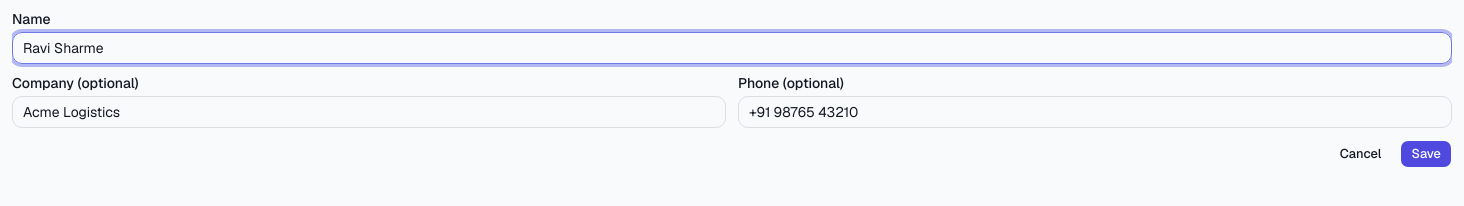
Test case: LeadDetailsForm › shows a field error and sends nothing when the name is cleared
Clear the field labelled "Name". click: (732, 48)
box: [12,32,1452,64]
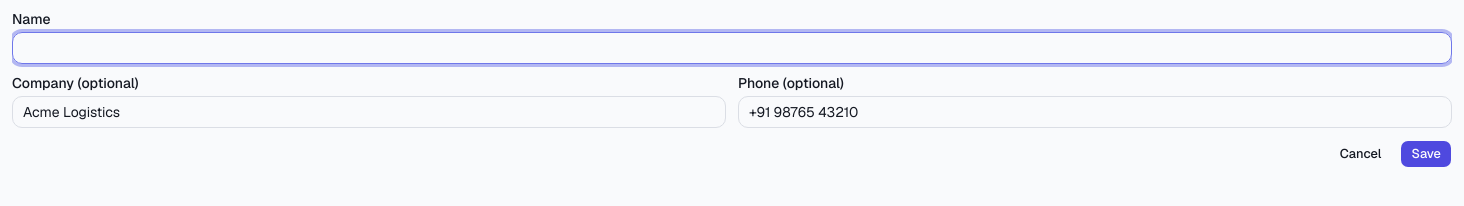
Click the button "Save". click: (1426, 154)
box: [1400,140,1452,168]
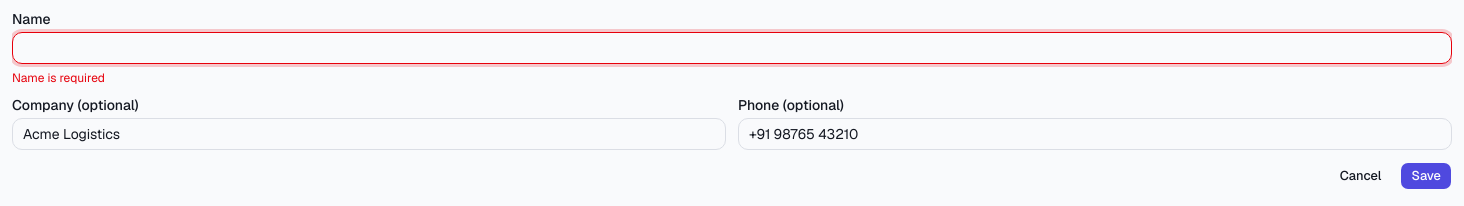
Check: the text "Name is required" is shown, box [12,70,105,86]
